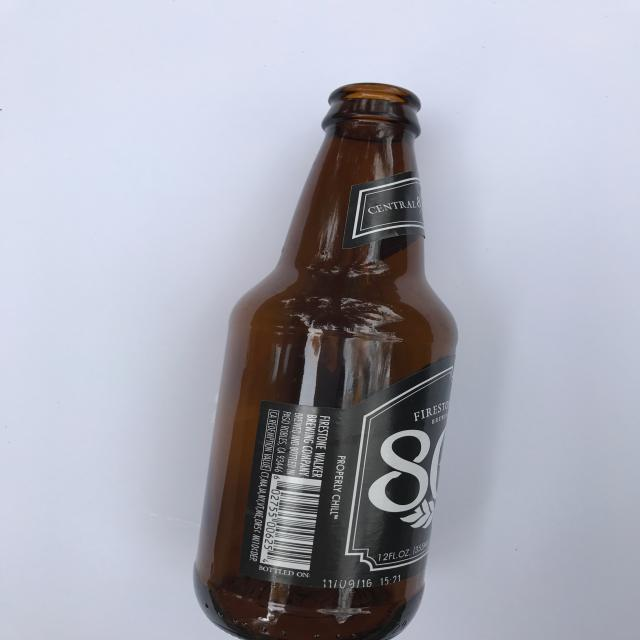glass: (193, 81, 458, 640)
